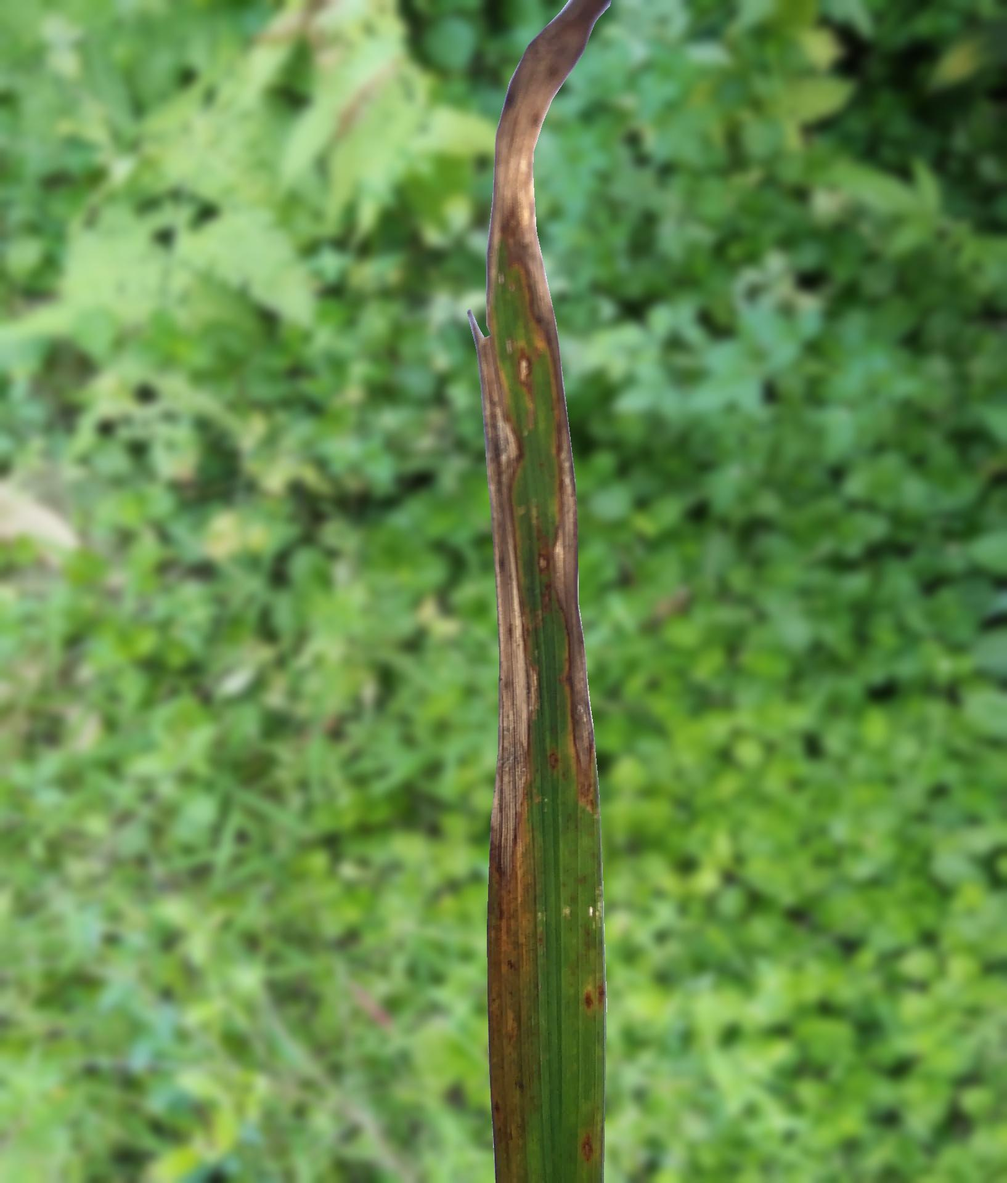BLB: (468, 1, 611, 1182)
LEAF: (468, 0, 611, 1182)
